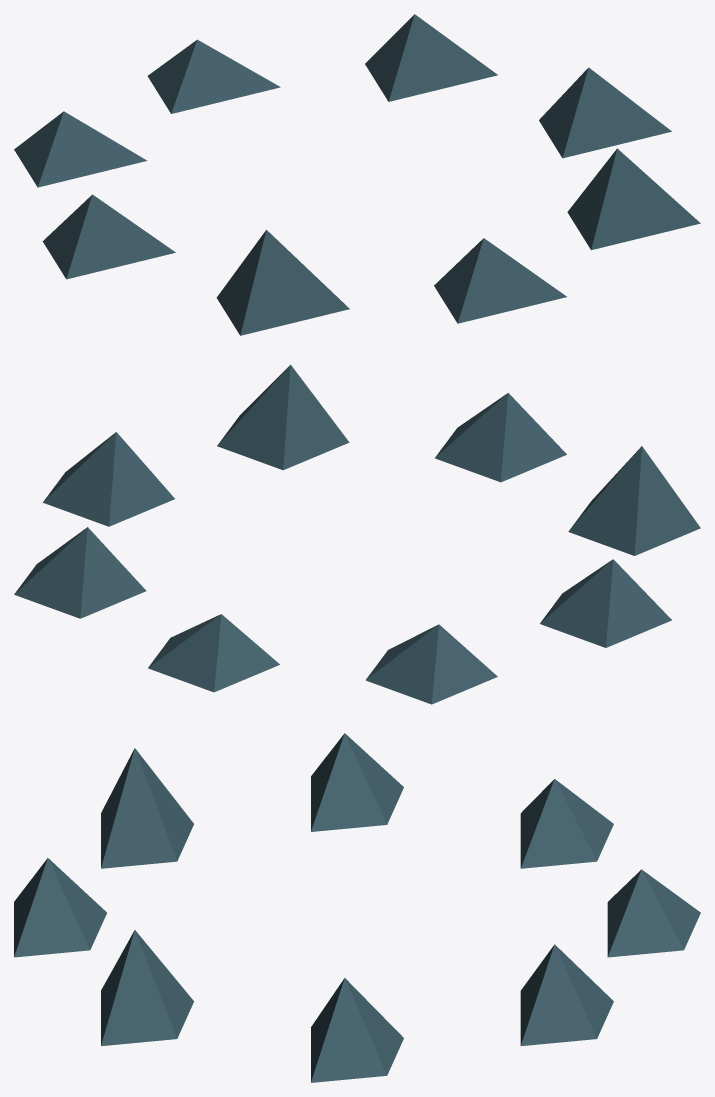
Rendered from terrain-distant.glb.
3 views of the same model, one above another, from view 1: azimuth 30°, elevation 25°; view 2: azimuth 150°, elevation 25°; view 3: azimuth 270°, elevation 25° (orthographic). The views are drawn at different scales.
Visible parts, largest first — view 1: LMW_Distant_ridge_5, LMW_Distant_ridge_7, LMW_Distant_ridge_0, LMW_Distant_ridge_1, LMW_Distant_ridge_6, LMW_Distant_ridge_4, LMW_Distant_ridge_3, LMW_Distant_ridge_2; view 2: LMW_Distant_ridge_5, LMW_Distant_ridge_7, LMW_Distant_ridge_0, LMW_Distant_ridge_1, LMW_Distant_ridge_6, LMW_Distant_ridge_4, LMW_Distant_ridge_3, LMW_Distant_ridge_2; view 3: LMW_Distant_ridge_5, LMW_Distant_ridge_7, LMW_Distant_ridge_0, LMW_Distant_ridge_1, LMW_Distant_ridge_6, LMW_Distant_ridge_4, LMW_Distant_ridge_3, LMW_Distant_ridge_2.
Boxes of the visible parts, left/top/right/bottom form: LMW_Distant_ridge_5: left=216, top=230, right=349, bottom=335; LMW_Distant_ridge_7: left=567, top=148, right=700, bottom=250; LMW_Distant_ridge_0: left=539, top=67, right=671, bottom=158; LMW_Distant_ridge_1: left=365, top=14, right=497, bottom=101; LMW_Distant_ridge_6: left=434, top=238, right=566, bottom=323; LMW_Distant_ridge_4: left=42, top=194, right=175, bottom=279; LMW_Distant_ridge_3: left=14, top=111, right=147, bottom=187; LMW_Distant_ridge_2: left=147, top=39, right=280, bottom=113; LMW_Distant_ridge_5: left=568, top=446, right=700, bottom=555; LMW_Distant_ridge_7: left=217, top=364, right=349, bottom=470; LMW_Distant_ridge_0: left=43, top=432, right=174, bottom=526; LMW_Distant_ridge_1: left=14, top=527, right=146, bottom=618; LMW_Distant_ridge_6: left=435, top=393, right=566, bottom=482; LMW_Distant_ridge_4: left=540, top=559, right=671, bottom=647; LMW_Distant_ridge_3: left=365, top=624, right=497, bottom=704; LMW_Distant_ridge_2: left=148, top=614, right=279, bottom=692; LMW_Distant_ridge_5: left=101, top=748, right=193, bottom=868; LMW_Distant_ridge_7: left=101, top=930, right=193, bottom=1046; LMW_Distant_ridge_0: left=311, top=978, right=403, bottom=1082; LMW_Distant_ridge_1: left=520, top=944, right=613, bottom=1046; LMW_Distant_ridge_6: left=14, top=858, right=106, bottom=957; LMW_Distant_ridge_4: left=311, top=733, right=403, bottom=831; LMW_Distant_ridge_3: left=520, top=779, right=613, bottom=868; LMW_Distant_ridge_2: left=607, top=869, right=700, bottom=957.
Bounding box in the file's own units: 171 × 22.63 × 162.
